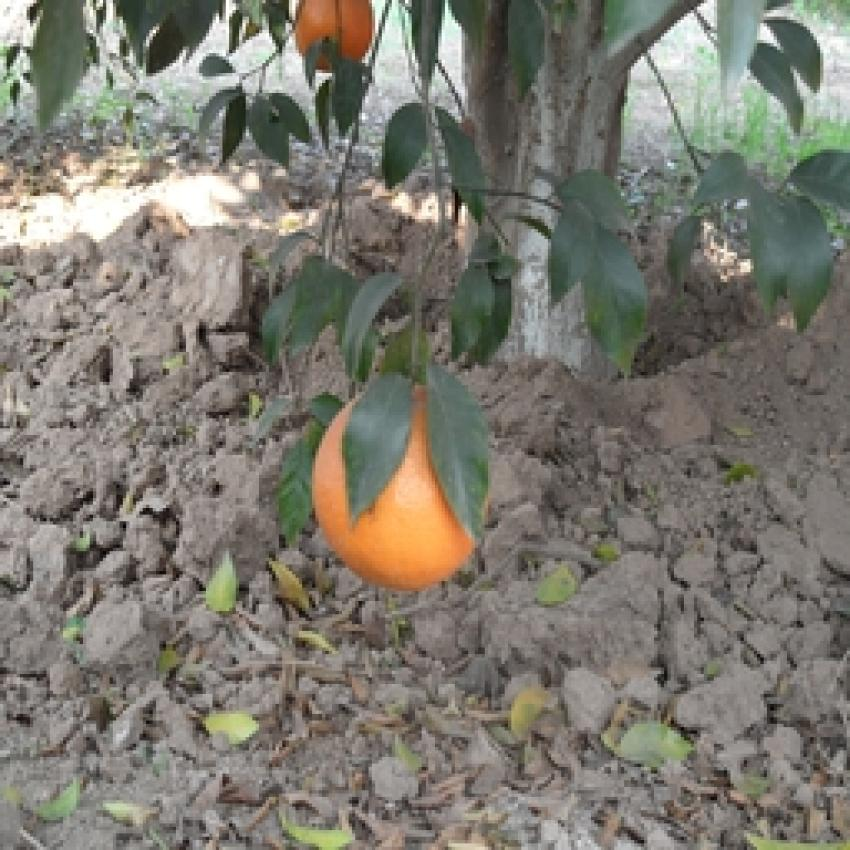Mal estado: (307, 357, 498, 603)
